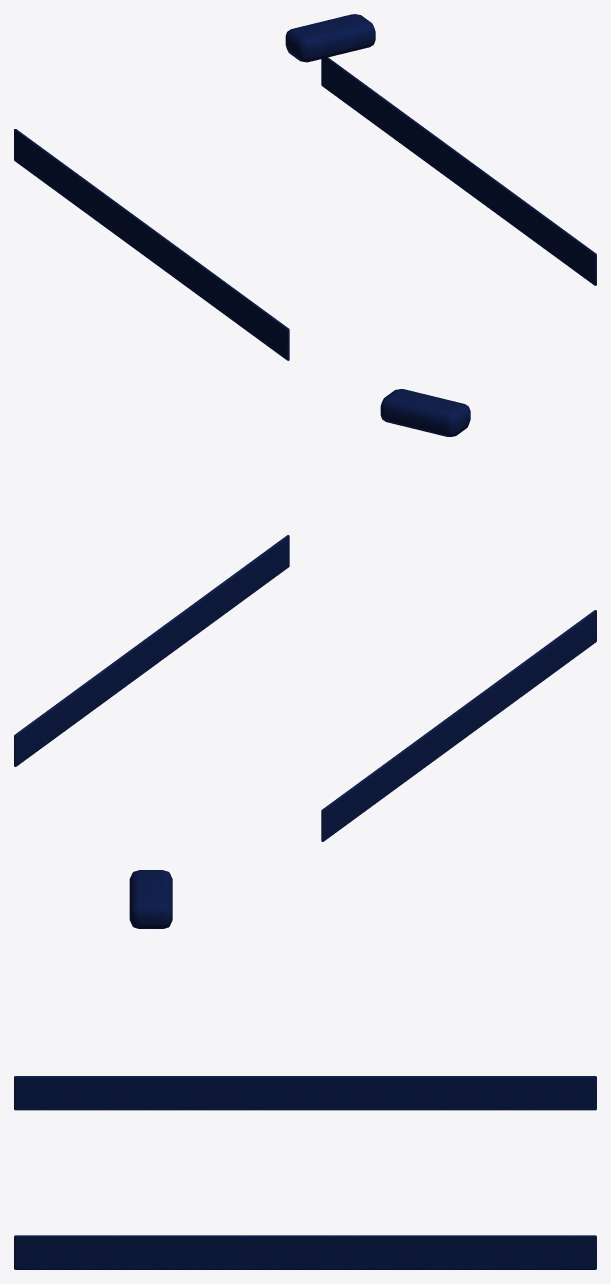
3 views of the same model, one above another, from view 1: azimuth 30°, elevation 25°; view 2: azimuth 150°, elevation 25°; view 3: azimuth 270°, elevation 25° (orthographic). The views are drawn at different scales.
Size of the model in its own units: 2.22 by 1.8 by 3.4.
1 material, 1 textured.
